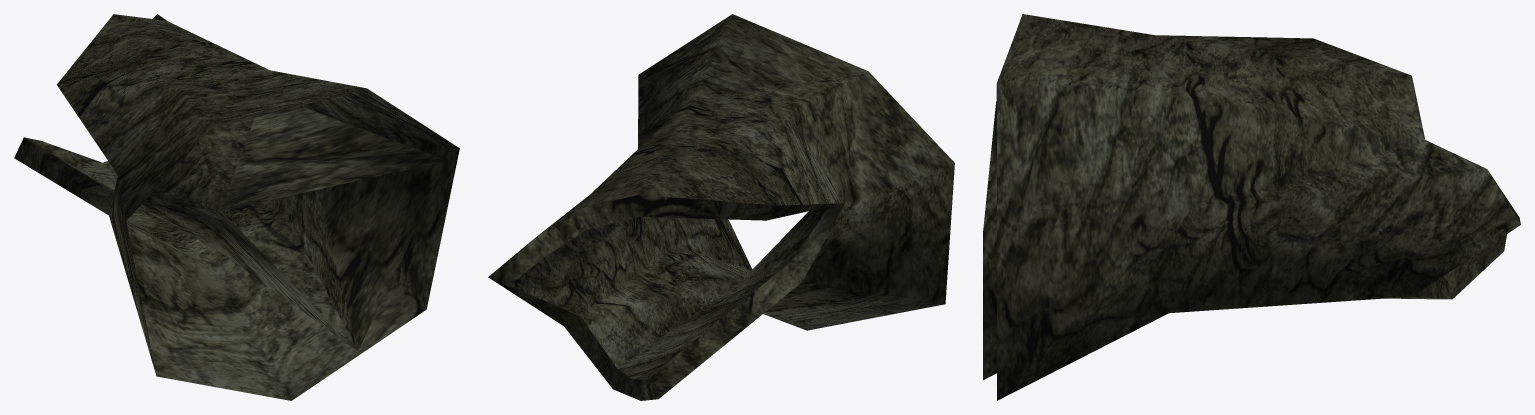
File: MEP_DeadTree_04.fbx
3 renders of one model, left to right at view 1: azimuth 30°, elevation 25°; view 2: azimuth 150°, elevation 25°; view 3: azimuth 270°, elevation 25°, orthographic. The views are drawn at different scales.
Visible parts, largest first — view 1: MEP_DeadTree_04; view 2: MEP_DeadTree_04; view 3: MEP_DeadTree_04.
Boxes of the visible parts, x1=… form: MEP_DeadTree_04: x1=14, y1=14, x2=459, y2=400; MEP_DeadTree_04: x1=488, y1=14, x2=954, y2=400; MEP_DeadTree_04: x1=983, y1=14, x2=1520, y2=400.
Size of the model in its own units: 2.49 by 2.17 by 2.99.
Materials: 1 (1 with a texture image).
